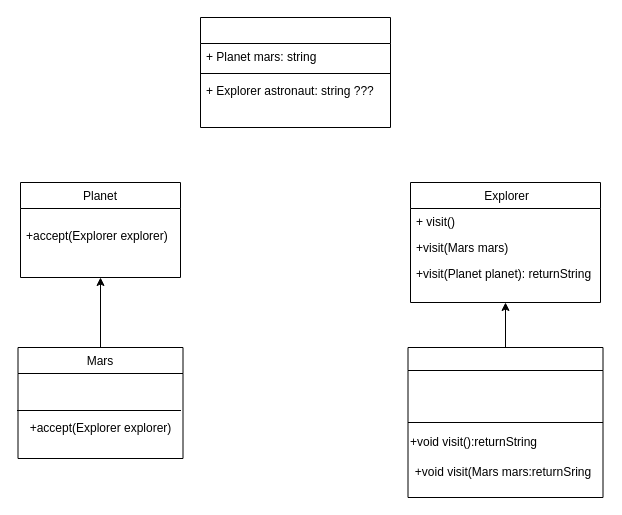
Some shapes in this 622 by 515 pixel diagram are drawn without their labels. The shapes that lost their labels are listed below. From the top down, each one's box as (x1, y1, x2, y2) in pixels, then its label:
(200, 16, 390, 128): App
(407, 346, 603, 498): HumanExplorer
